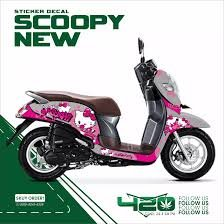motor: (13, 46, 216, 184)
